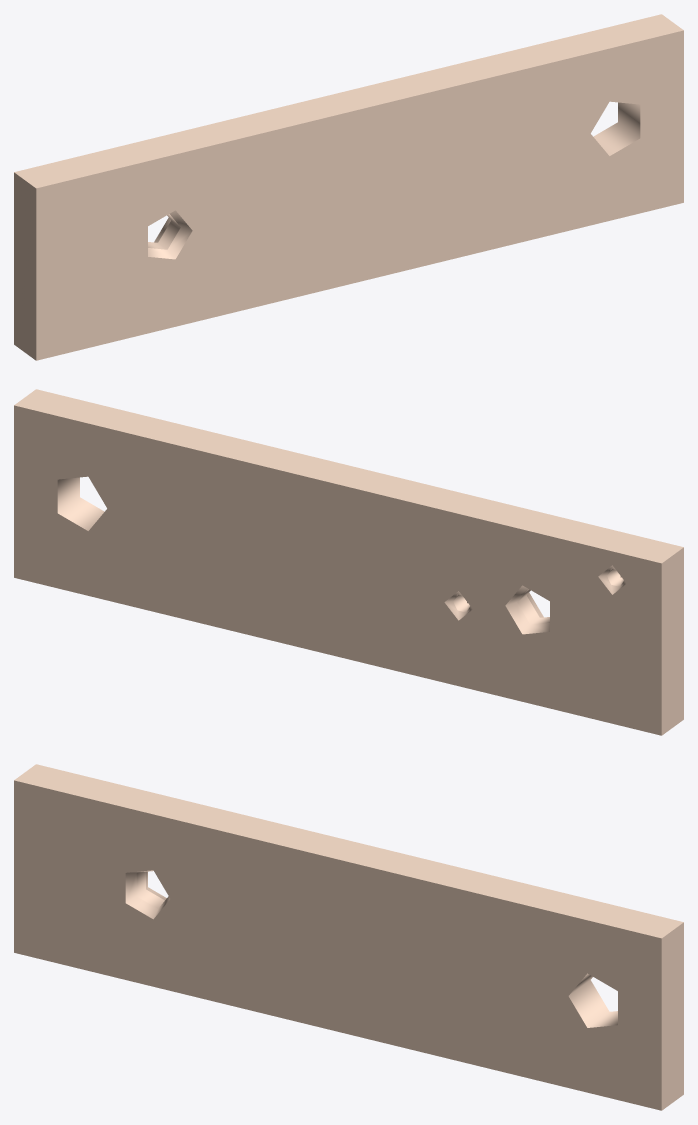
The model's file is Pied de limacon - plaque.obj.
3 renders of one model, top to bottom at view 1: azimuth 30°, elevation 25°; view 2: azimuth 150°, elevation 25°; view 3: azimuth 330°, elevation 25°, orthographic.
Parts seen in each view (by area): view 1: Face_5, Face_4, Face_1, Face_8, Face_14; view 2: Face_6, Face_4, Face_1, Face_8, Face_13; view 3: Face_5, Face_4, Face_3, Face_8, Face_14.
Part boxes in pixels (left/top/right/bottom): Face_5: left=36, top=30, right=683, bottom=360; Face_4: left=14, top=14, right=683, bottom=188; Face_1: left=14, top=172, right=36, bottom=360; Face_8: left=593, top=102, right=640, bottom=155; Face_14: left=148, top=210, right=192, bottom=259; Face_6: left=14, top=405, right=661, bottom=735; Face_4: left=14, top=389, right=683, bottom=563; Face_1: left=661, top=547, right=683, bottom=735; Face_8: left=57, top=477, right=104, bottom=530; Face_13: left=505, top=585, right=549, bottom=634; Face_5: left=14, top=780, right=661, bottom=1110; Face_4: left=14, top=764, right=683, bottom=938; Face_3: left=661, top=922, right=683, bottom=1110; Face_8: left=568, top=973, right=617, bottom=1027; Face_14: left=125, top=870, right=169, bottom=919.
Size of the model in its own units: 0.059 by 0.015 by 0.0035.
